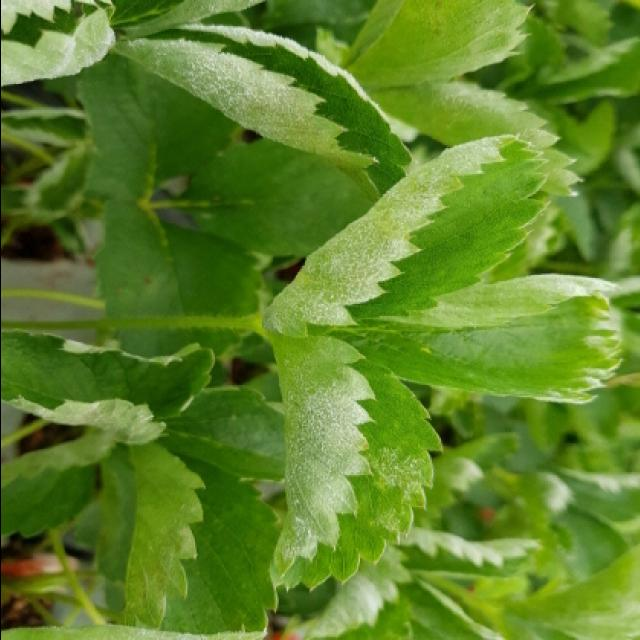Powdery Mildew Leaf: (258, 132, 550, 341), (114, 20, 414, 207), (254, 327, 443, 595), (310, 271, 624, 407), (361, 80, 582, 199), (2, 327, 214, 449), (2, 0, 115, 87)
